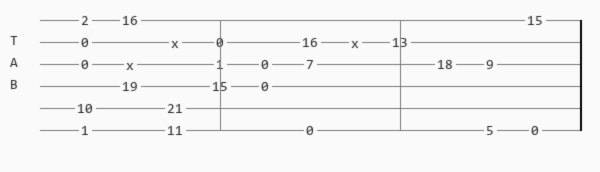0: (81, 58, 93, 71), (81, 36, 93, 49), (216, 36, 228, 49), (261, 80, 273, 93), (261, 58, 273, 71), (306, 124, 318, 137), (531, 124, 543, 137)
1: (81, 124, 93, 137), (216, 58, 228, 71)
10: (77, 102, 97, 115)
11: (167, 124, 187, 137)
13: (392, 36, 412, 49)
15: (212, 80, 232, 93), (527, 14, 547, 27)
16: (122, 14, 142, 27), (302, 36, 322, 49)
18: (437, 58, 457, 71)
19: (122, 80, 142, 93)
2: (81, 14, 93, 27)
21: (167, 102, 187, 115)
5: (486, 124, 498, 137)
7: (306, 58, 318, 71)
9: (486, 58, 498, 71)
x: (126, 59, 138, 70), (171, 37, 183, 48), (351, 37, 363, 48)
